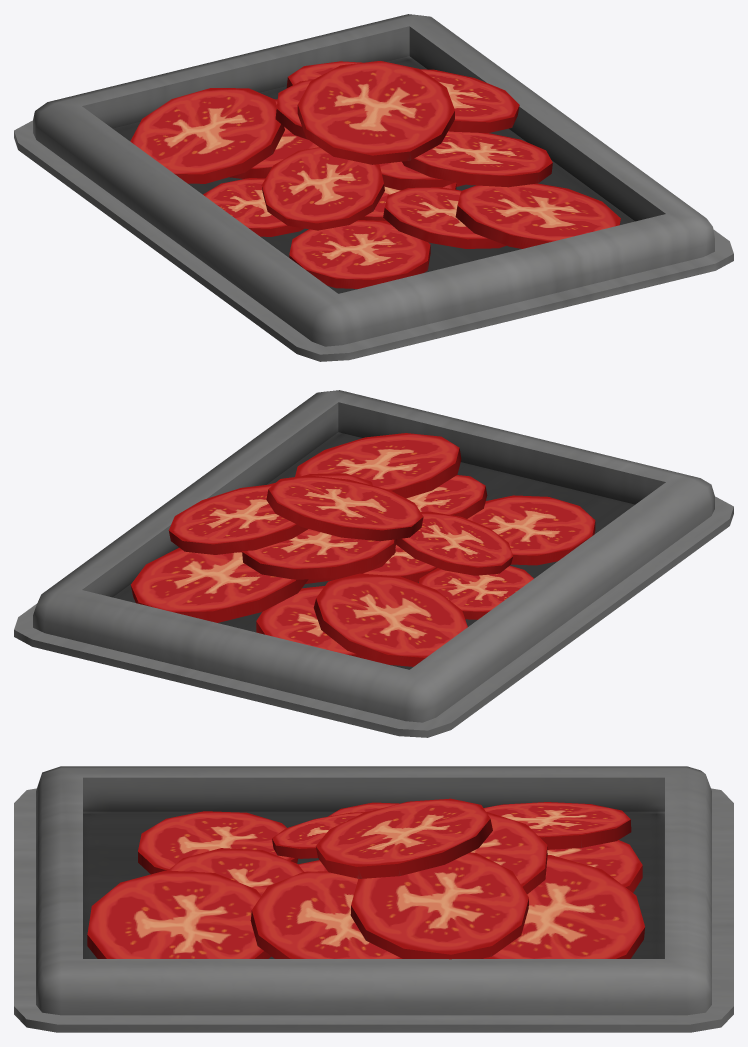
Rendered from rack_tomatoes.FBX.
3 renders of one model, top to bottom at view 1: azimuth 30°, elevation 25°; view 2: azimuth 150°, elevation 25°; view 3: azimuth 270°, elevation 25°, orthographic. The views are drawn at different scales.
Parts seen in each view (by area): view 1: rack_tomatoes; view 2: rack_tomatoes; view 3: rack_tomatoes.
Part boxes in pixels (x1,y1,x2,y2): rack_tomatoes: [14, 14, 733, 361]; rack_tomatoes: [14, 390, 733, 737]; rack_tomatoes: [14, 766, 733, 1032].
Bounding box in the file's own units: 22.34 × 4.58 × 28.36.
